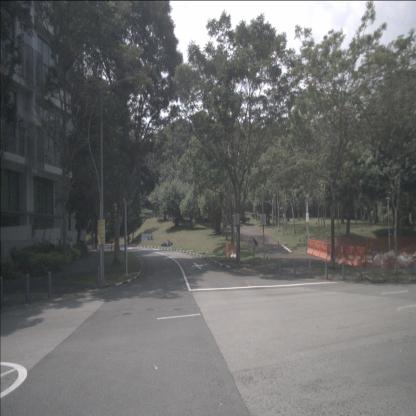movable_object-barrier: (347, 247, 367, 267), (334, 244, 349, 266), (318, 241, 330, 261), (326, 244, 338, 263), (313, 240, 322, 258), (306, 239, 316, 255)
